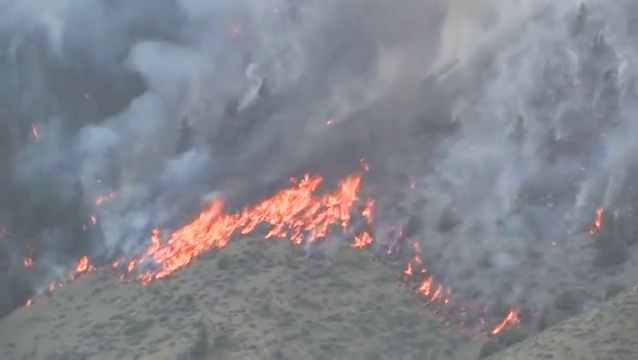fire: (146, 176, 372, 276), (492, 313, 514, 331), (420, 277, 433, 296), (76, 254, 89, 271)
